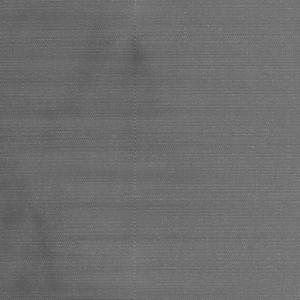Wrinkle: (7, 190, 72, 300)
